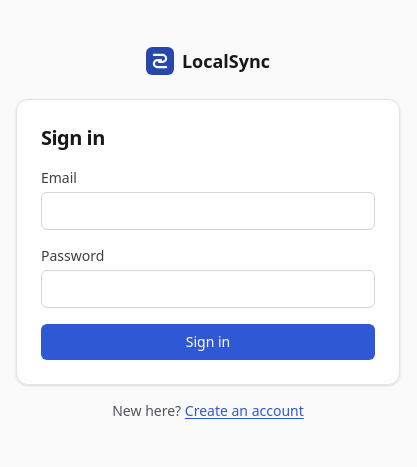
Test case: login page › shows the server's generic message for bad credentials, as an alert
Step 1. Type "ada@example.com" into the field labelled "Email" → (208, 211), box left=41, top=192, right=375, bottom=230
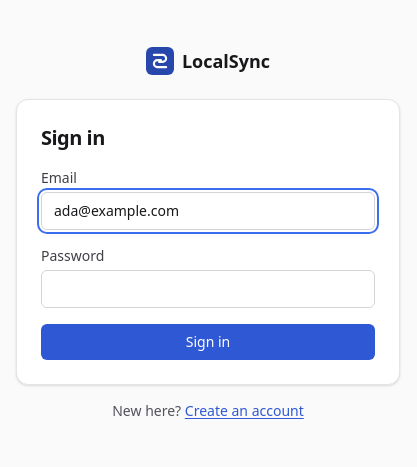
Step 2. Type "wrong password" into the password field labelled "Password" → (208, 289), box left=41, top=270, right=375, bottom=308
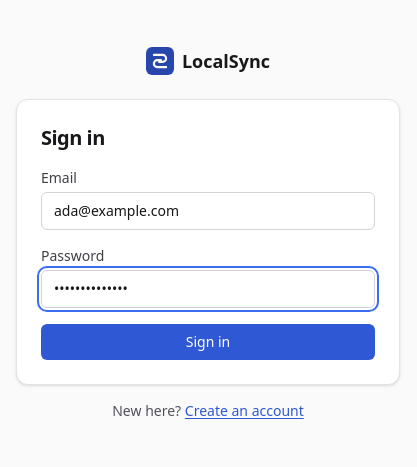
Step 3. Click the button "Sign in" → (208, 342), box left=41, top=324, right=375, bottom=360
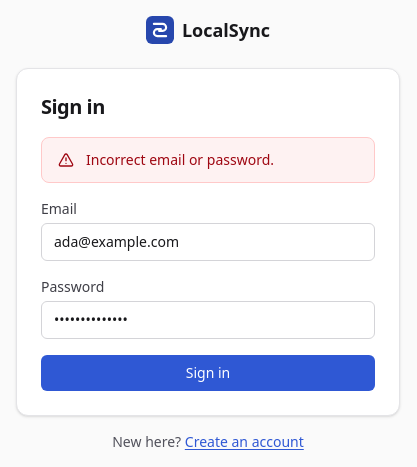
Check: the message reads "Incorrect email or password.", box left=86, top=150, right=274, bottom=169
